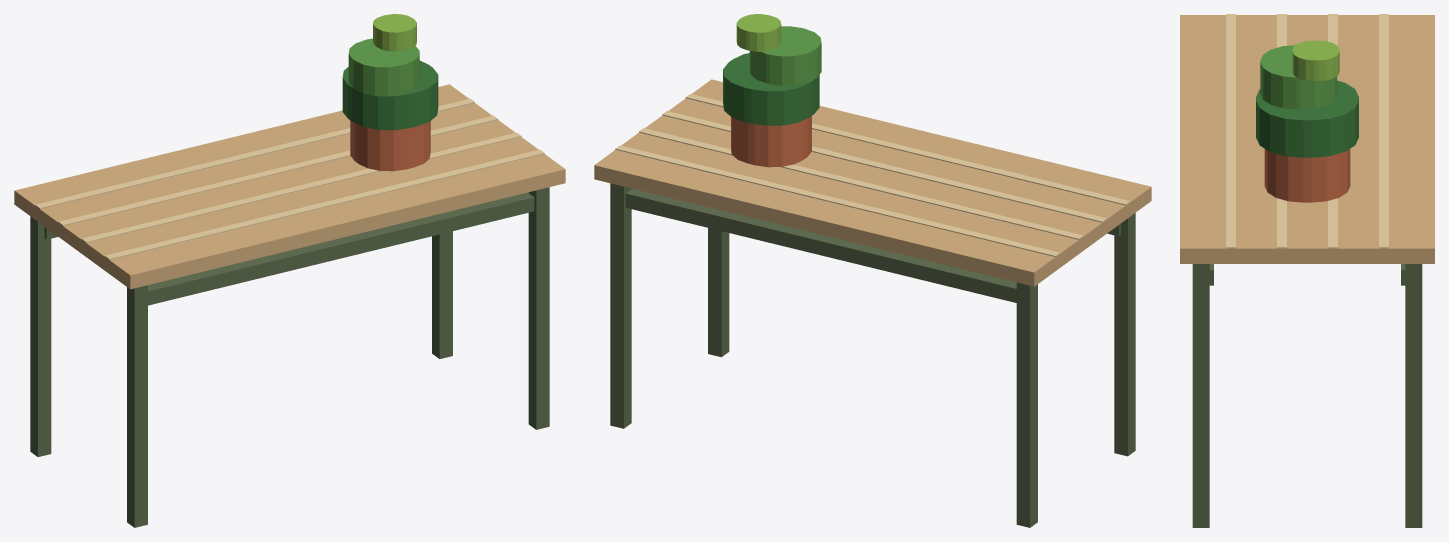
Rendered from outdoor_table.glb.
3 views of the same model, side by side, from view 1: azimuth 30°, elevation 25°; view 2: azimuth 150°, elevation 25°; view 3: azimuth 270°, elevation 25° (orthographic). The views are drawn at different scales.
Visible parts, largest first — view 1: outdoor_table_Body; view 2: outdoor_table_Body; view 3: outdoor_table_Body.
Part boxes in pixels (left/top/right/bottom): outdoor_table_Body: left=14, top=14, right=565, bottom=527; outdoor_table_Body: left=594, top=14, right=1151, bottom=527; outdoor_table_Body: left=1180, top=14, right=1434, bottom=527.
Bounding box in the file's own units: 1.3 × 1.1 × 0.6.
